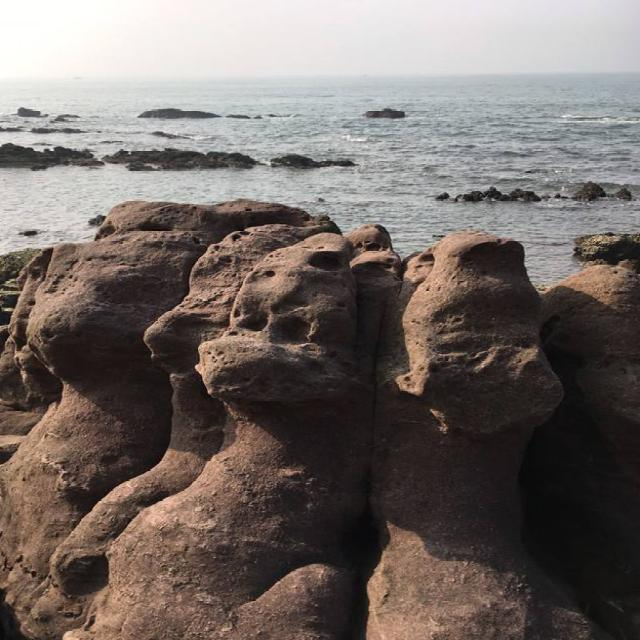reef: (0, 103, 430, 173), (386, 170, 638, 216)
